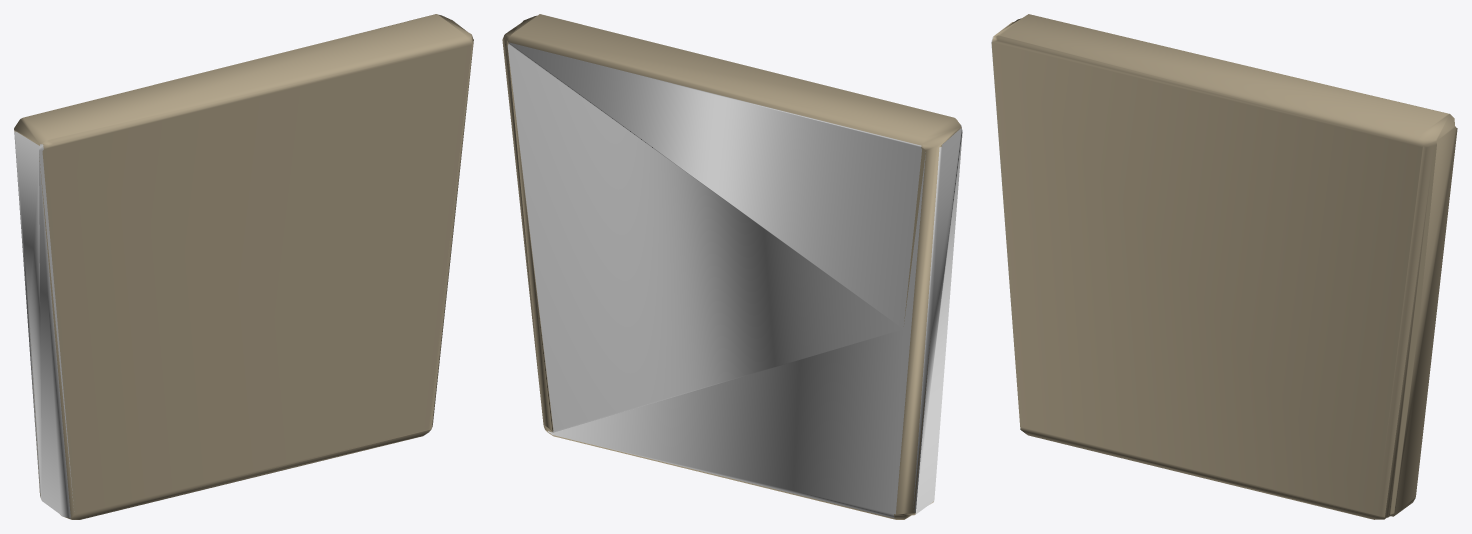
File: left_arm.obj
The picture shows the model from 3 angles, left to right: view 1: azimuth 30°, elevation 25°; view 2: azimuth 150°, elevation 25°; view 3: azimuth 330°, elevation 25°; orthographic projection.
Visible parts, largest first — view 1: left_arm_mesh7.002_mesh7-geometry; view 2: left_arm_mesh7.002_mesh7-geometry; view 3: left_arm_mesh7.002_mesh7-geometry.
Boxes of the visible parts, left/top/right/bottom form: left_arm_mesh7.002_mesh7-geometry: left=14, top=14, right=473, bottom=519; left_arm_mesh7.002_mesh7-geometry: left=502, top=14, right=962, bottom=519; left_arm_mesh7.002_mesh7-geometry: left=991, top=14, right=1457, bottom=519.
Size of the model in its own units: 0.3002 by 0.2557 by 0.0417.
